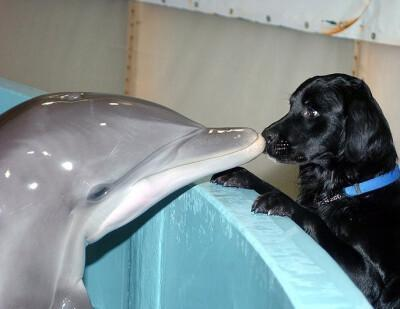fish: (2, 92, 261, 307)
